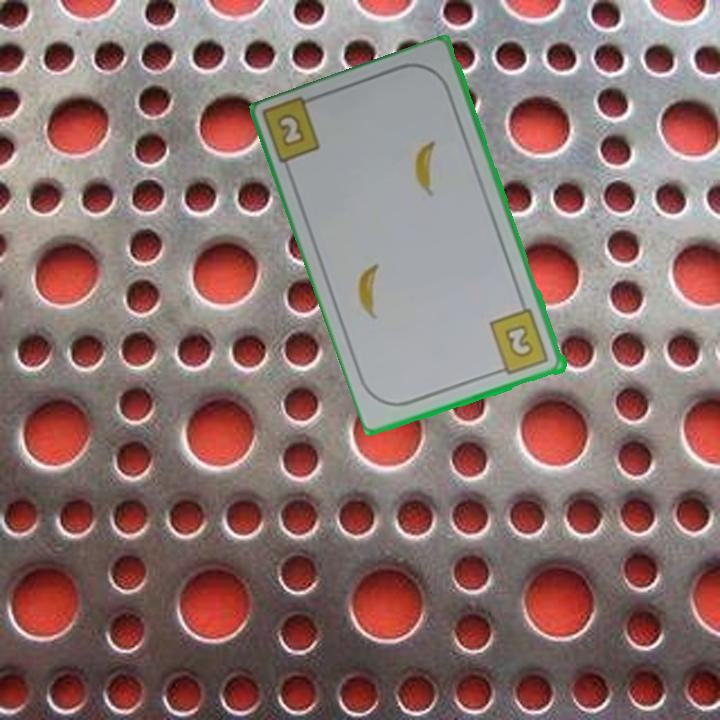2b: (486, 306, 552, 378), (276, 113, 305, 147)
